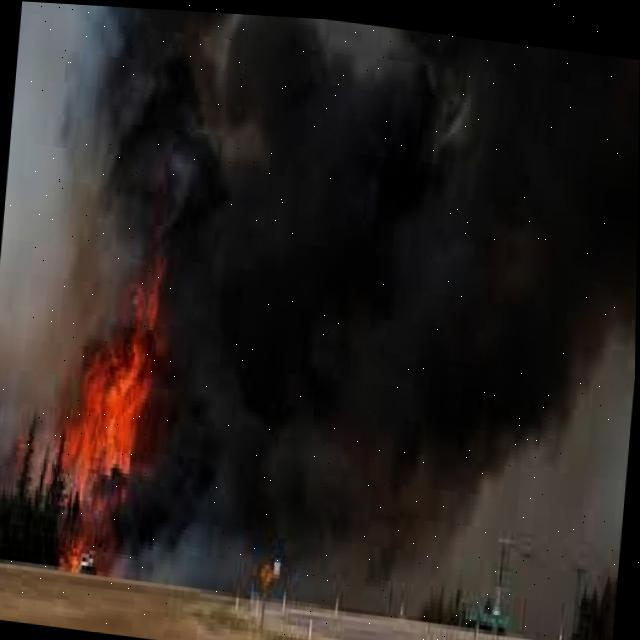fire: (76, 315, 154, 515)
smoke: (142, 9, 640, 634), (84, 5, 186, 268)
